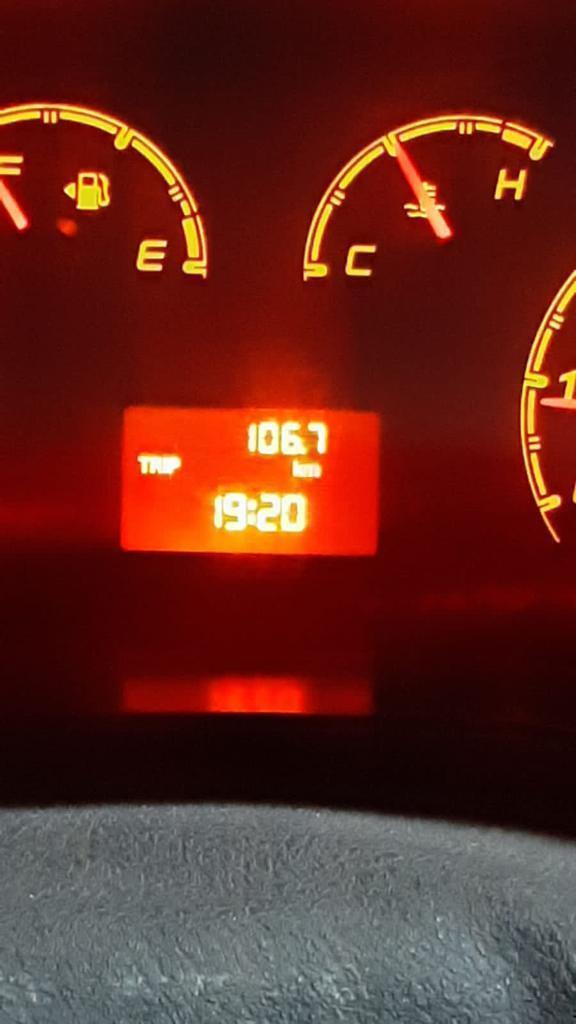,: (300, 445, 306, 456)
0: (280, 493, 306, 532), (257, 420, 279, 455)
1: (212, 494, 223, 530), (246, 421, 257, 453)
2: (256, 492, 280, 533)
6: (280, 420, 301, 455)
7: (306, 422, 328, 454)
9: (223, 491, 246, 532)
X: (304, 462, 323, 479), (246, 497, 257, 525), (136, 454, 150, 475), (291, 459, 304, 480), (149, 454, 162, 474), (169, 454, 181, 475), (162, 455, 168, 475)
odometer: (117, 403, 384, 559)
